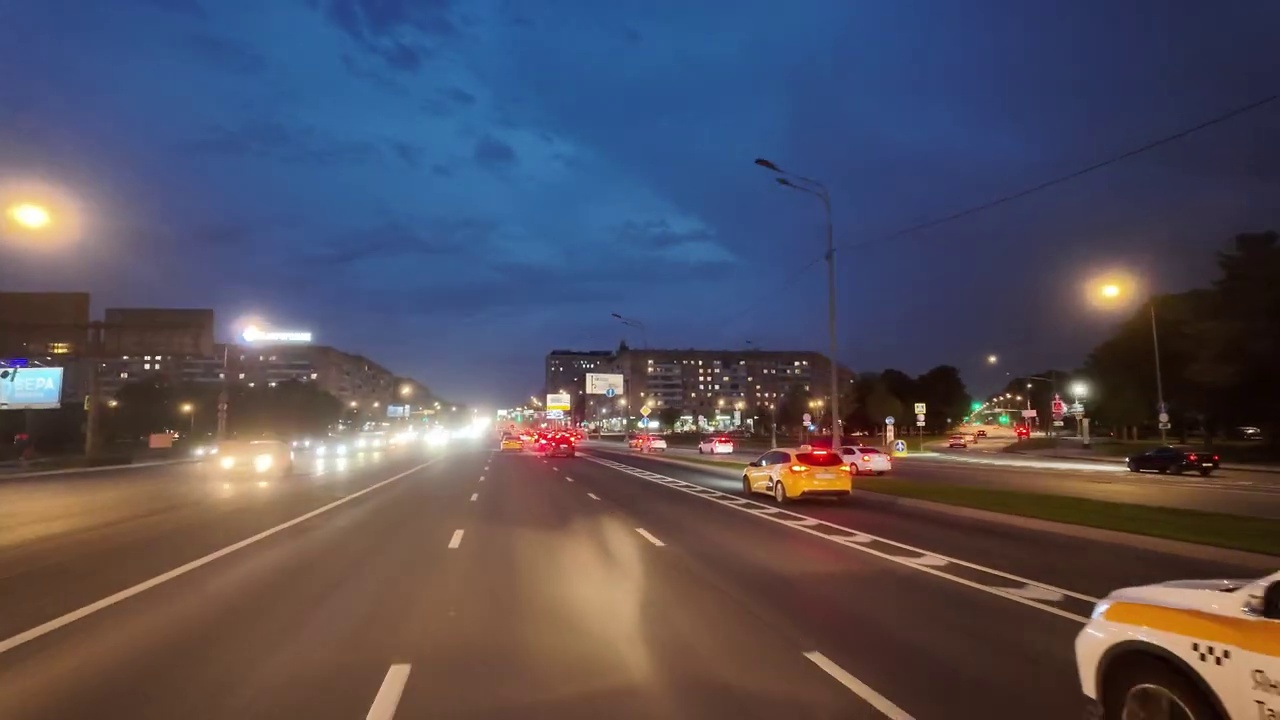acesa: (4, 194, 60, 240), (1089, 273, 1134, 310), (239, 316, 271, 346), (981, 348, 1001, 369)
apagada: (750, 152, 780, 180)
